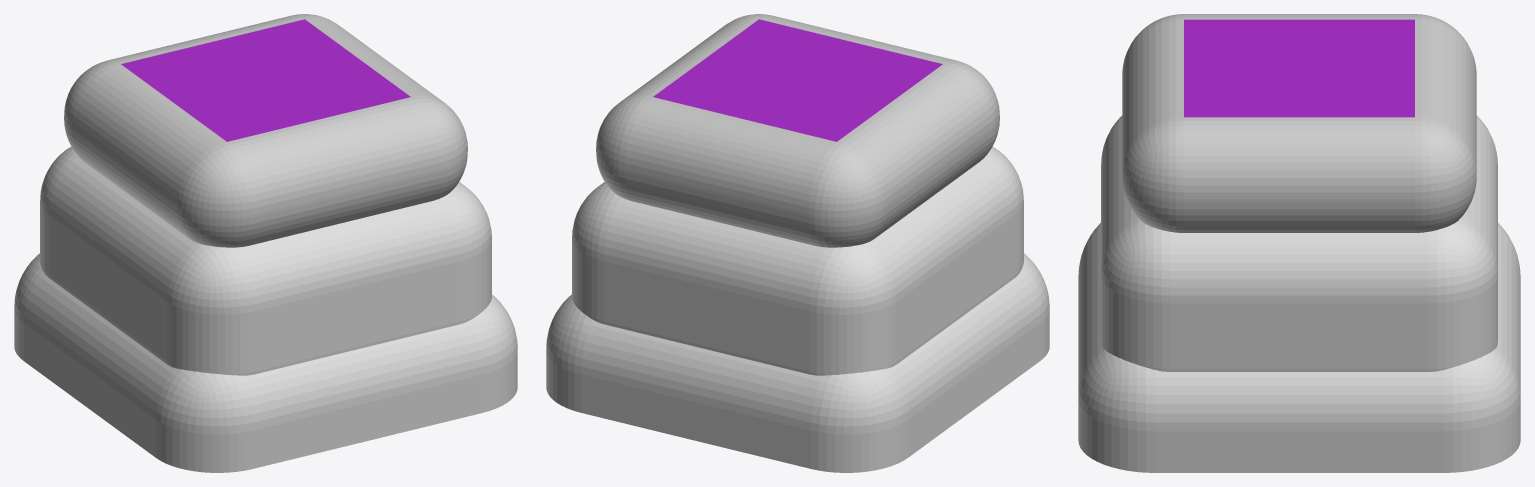
File: HashiNodeTest4.fbx
3 renders of one model, left to right at view 1: azimuth 30°, elevation 25°; view 2: azimuth 150°, elevation 25°; view 3: azimuth 270°, elevation 25°, orthographic. The views are drawn at different scales.
Parts seen in each view (by area): view 1: Cube.003, Cube.002, Cube.001; view 2: Cube.003, Cube.002, Cube.001; view 3: Cube.003, Cube.002, Cube.001.
Boxes of the visible parts, x1,y1,x2,y2 form: Cube.003: [64, 14, 467, 247]; Cube.002: [40, 146, 491, 375]; Cube.001: [14, 253, 517, 472]; Cube.003: [596, 14, 999, 247]; Cube.002: [572, 146, 1023, 375]; Cube.001: [546, 253, 1049, 472]; Cube.003: [1122, 14, 1476, 232]; Cube.002: [1101, 115, 1497, 371]; Cube.001: [1078, 223, 1520, 472].
Bounding box in the file's own units: 200 × 200 × 155.
